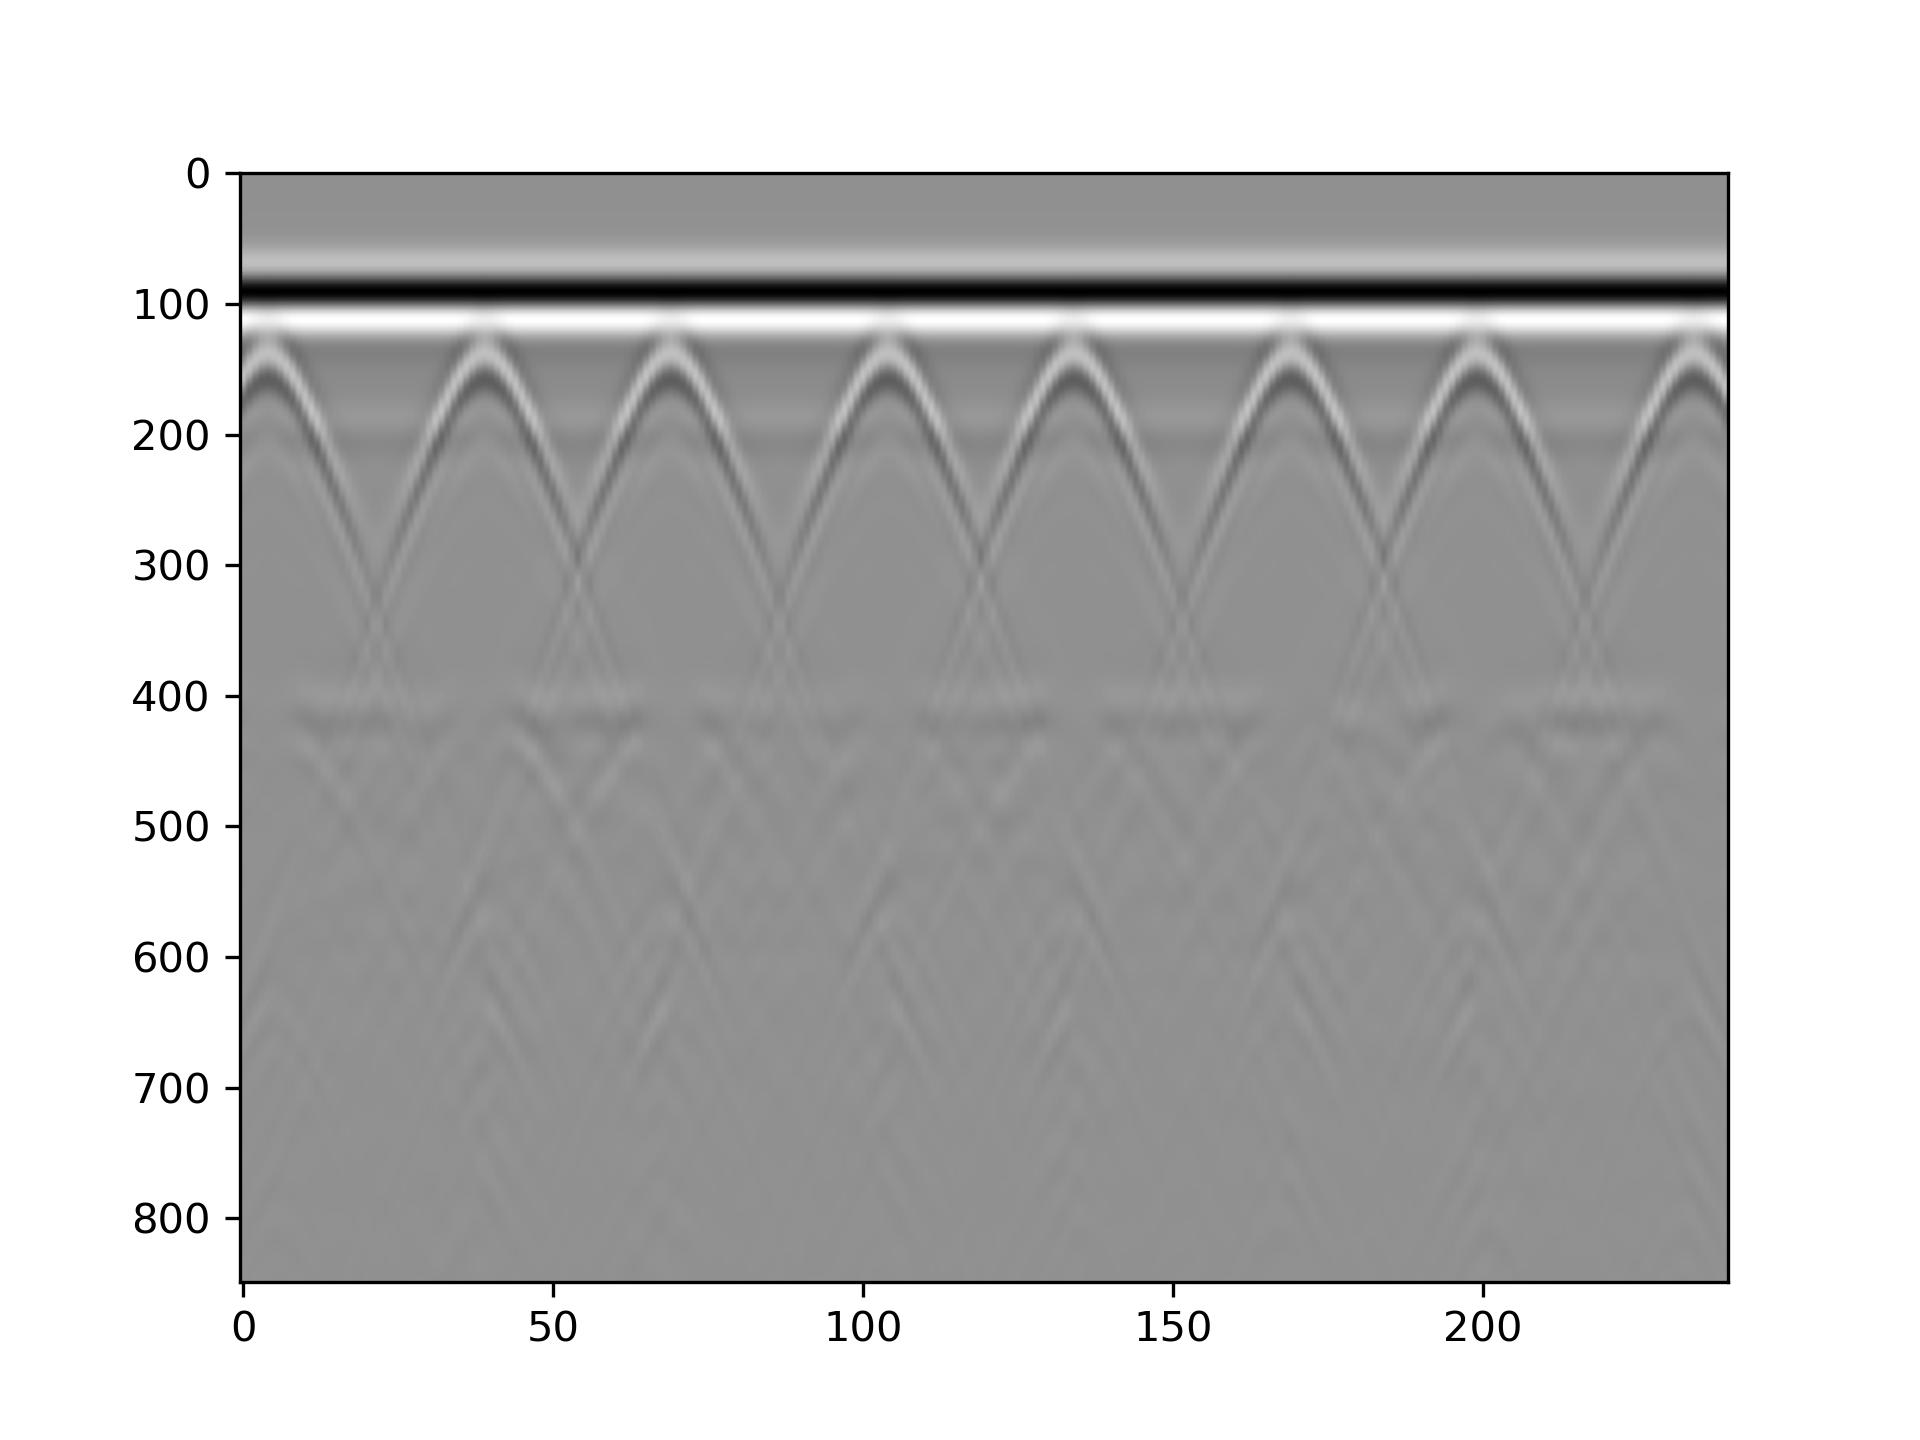钢筋: (1451, 321, 1503, 371), (262, 321, 311, 371), (475, 321, 525, 371), (658, 321, 708, 371), (872, 321, 922, 371), (1055, 321, 1105, 371), (1268, 321, 1318, 371), (1666, 321, 1716, 371)
